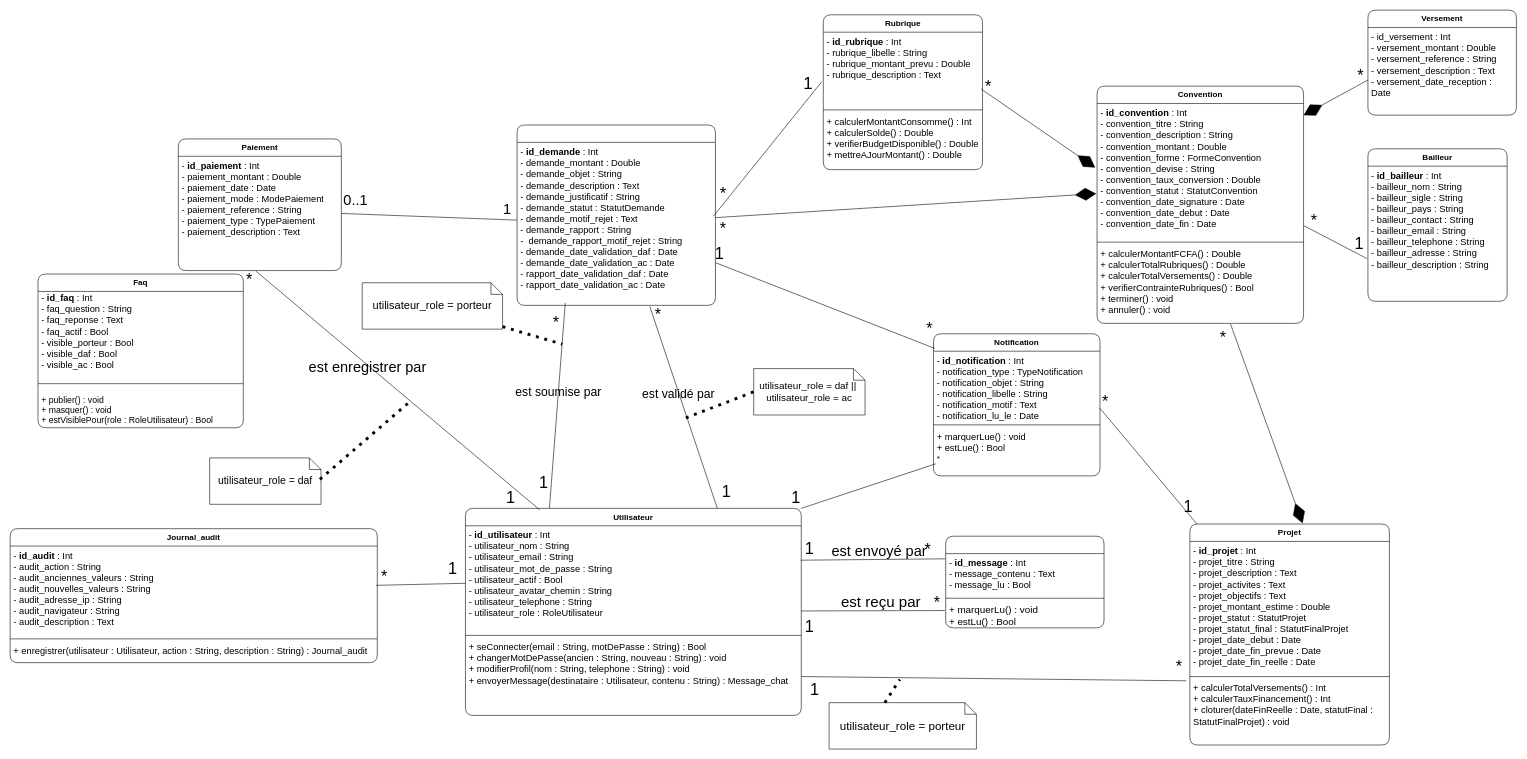
This 1527x759 diagram has some shape labels left out. Here are the shapes that lost their labels. From the top down, the box of each, then its label:
(516, 124, 715, 305): Demande_depense
(945, 536, 1104, 628): Message_chat
